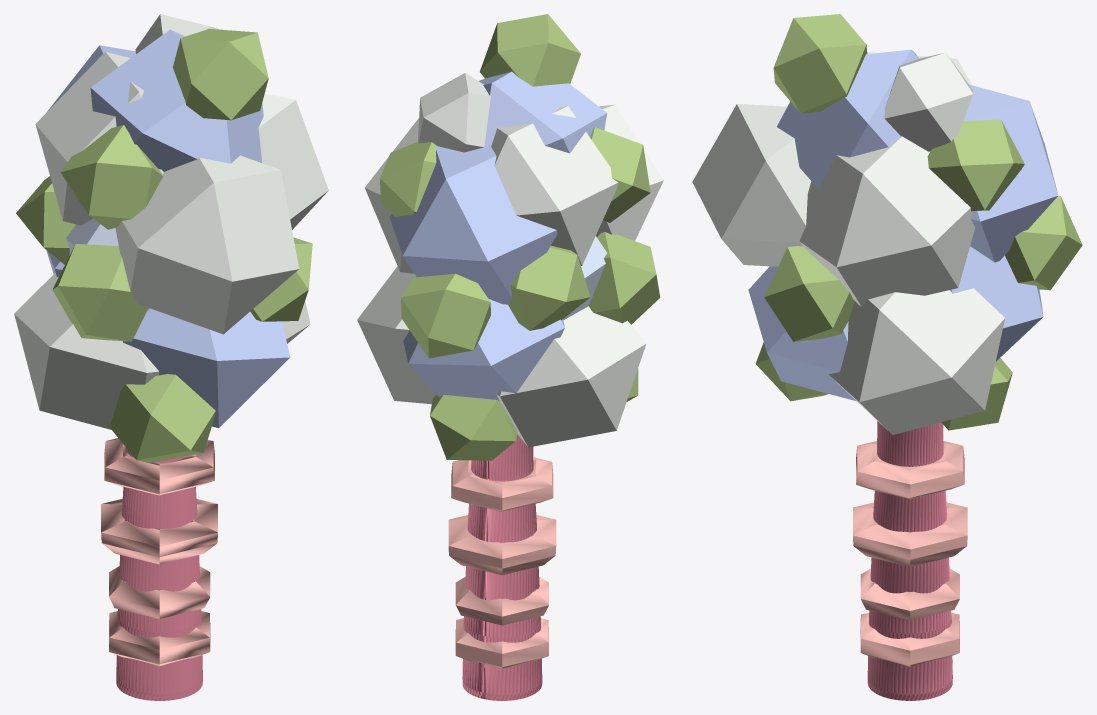
File: abstracttree.fbx
3 renders of one model, left to right at view 1: azimuth 30°, elevation 25°; view 2: azimuth 150°, elevation 25°; view 3: azimuth 270°, elevation 25°, orthographic. The views are drawn at different scales.
Visible parts, largest first — view 1: abstracttree1; view 2: abstracttree1; view 3: abstracttree1.
Part boxes in pixels (x1,y1,x2,y2): abstracttree1: [14, 14, 328, 700]; abstracttree1: [357, 14, 663, 700]; abstracttree1: [692, 14, 1082, 700].
Size of the model in its own units: 345 by 822 by 434.
